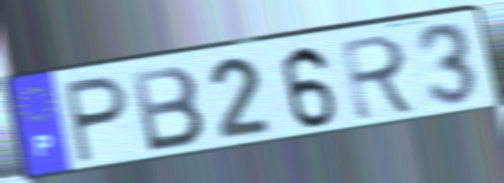2: (211, 53, 277, 145)
3: (418, 20, 478, 111)
6: (278, 43, 339, 131)
B: (127, 63, 209, 156)
P: (62, 73, 131, 167)
R: (338, 31, 421, 124)
